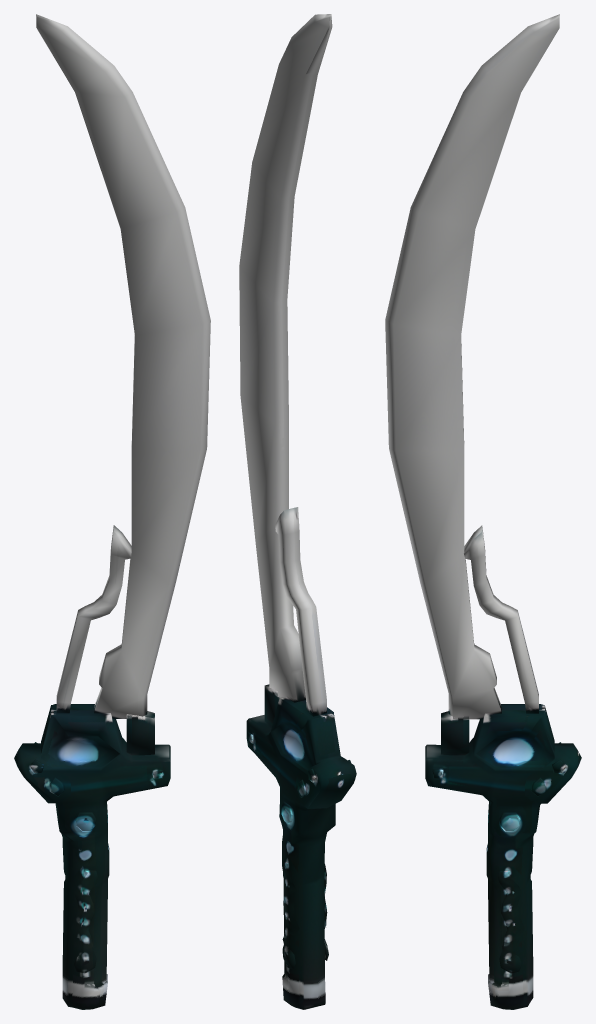
Rendered from double_sword.glb.
The picture shows the model from 3 angles, left to right: view 1: azimuth 90°, elevation 25°; view 2: azimuth 210°, elevation 25°; view 3: azimuth 270°, elevation 25°; orthographic projection.
Parts seen in each view (by area): view 1: material; view 2: material; view 3: material.
Part boxes in pixels (x1=…): material: x1=14, y1=14, x2=210, y2=1009; material: x1=239, y1=14, x2=356, y2=1009; material: x1=385, y1=14, x2=581, y2=1009.
Bounding box in the file's own units: 0.0605 × 1.5 × 0.27.
Materials: 1 (1 with a texture image).
